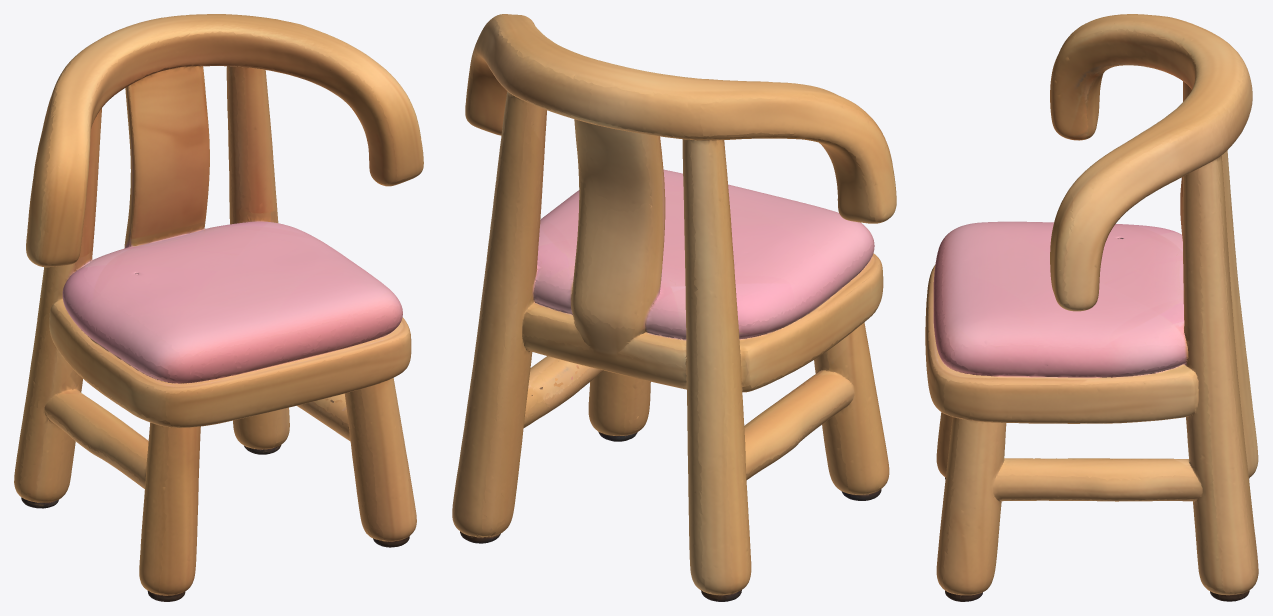
File: fur_chair_wood_01.glb
3 views of the same model, side by side, from view 1: azimuth 30°, elevation 25°; view 2: azimuth 150°, elevation 25°; view 3: azimuth 270°, elevation 25° (orthographic). The views are drawn at different scales.
Visible parts, largest first — view 1: geometry_0; view 2: geometry_0; view 3: geometry_0.
Part boxes in pixels (box(x1,y1,x2,y2)): geometry_0: box(14, 14, 423, 601); geometry_0: box(452, 14, 896, 601); geometry_0: box(925, 14, 1258, 601).
Size of the model in its own units: 0.537 by 0.6 by 0.3828.
Materials: 1 (1 with a texture image).
